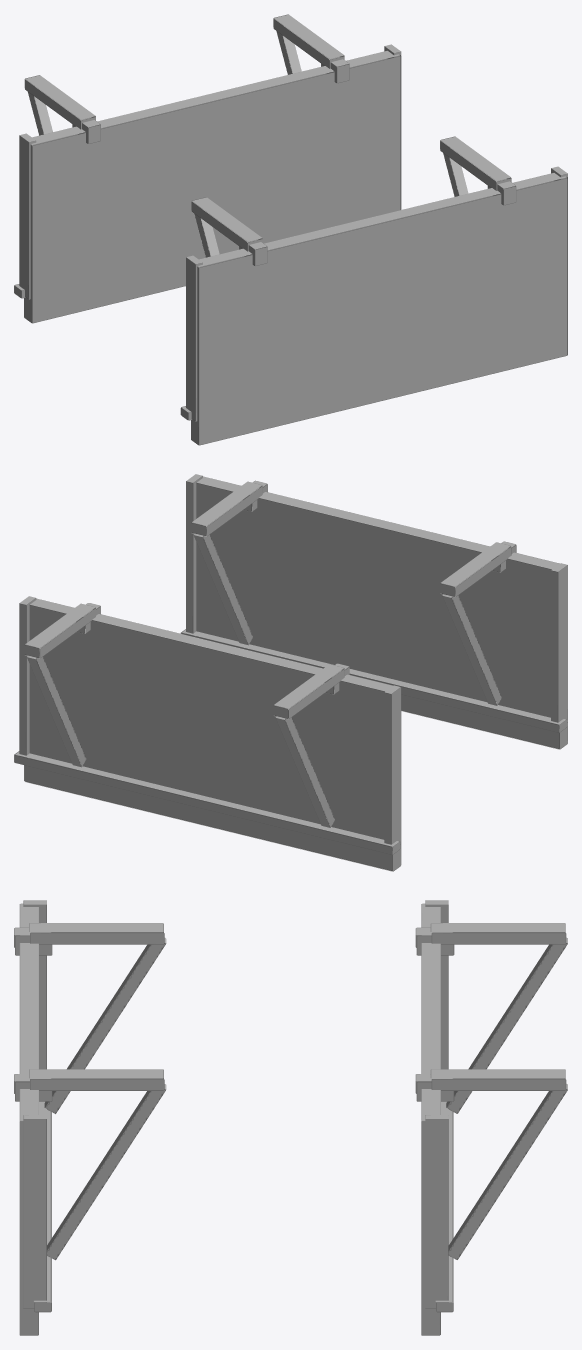
The model's file is wall_shelves_empty.obj.
3 renders of one model, top to bottom at view 1: azimuth 30°, elevation 25°; view 2: azimuth 150°, elevation 25°; view 3: azimuth 270°, elevation 25°, orthographic. The views are drawn at different scales.
Parts seen in each view (by area): view 1: wall_shelves_empty; view 2: wall_shelves_empty; view 3: wall_shelves_empty.
Boxes of the visible parts, x1,y1,x2,y2 form: wall_shelves_empty: (14,14,567,445); wall_shelves_empty: (14,474,567,871); wall_shelves_empty: (14,900,567,1335).
Size of the model in its own units: 0.944 by 0.448 by 0.9929.
1 material, 1 textured.
